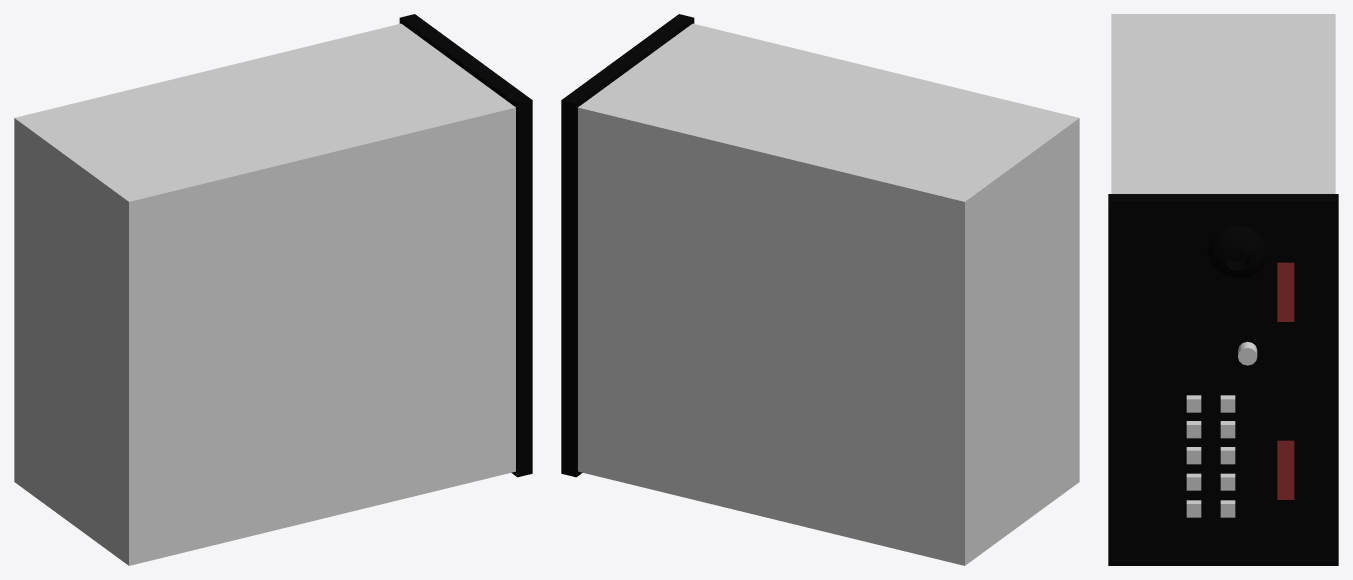
The picture shows the model from 3 angles, left to right: view 1: azimuth 30°, elevation 25°; view 2: azimuth 150°, elevation 25°; view 3: azimuth 270°, elevation 25°; orthographic projection. The views are drawn at different scales.
Visible parts, largest first — view 1: Cube; view 2: Cube; view 3: Cube.
Part boxes in pixels (x1,y1,x2,y2): Cube: [14, 14, 532, 565]; Cube: [561, 14, 1079, 565]; Cube: [1108, 14, 1338, 565].
Size of the model in its own units: 41.68 by 35.91 by 20.52.
